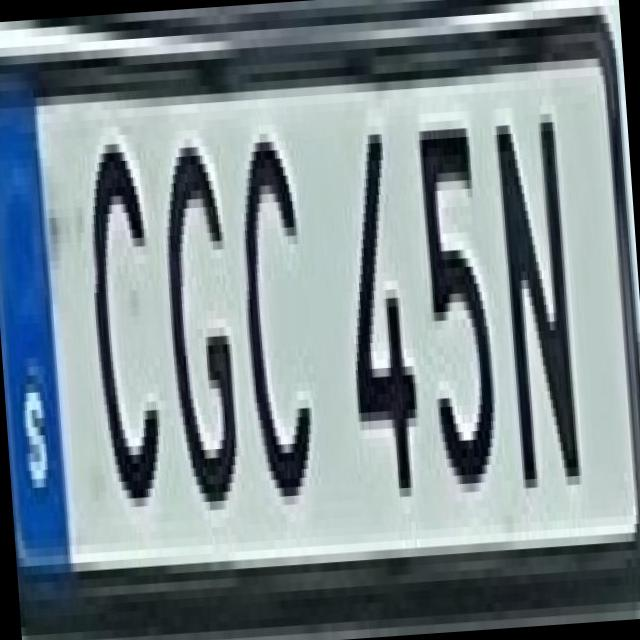4: (324, 89, 425, 491)
5: (402, 92, 505, 494)
C: (222, 105, 321, 507), (71, 107, 167, 509)
G: (146, 110, 248, 512)
N: (482, 86, 584, 488)
